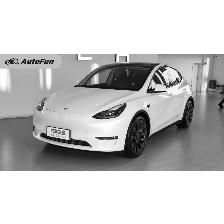EV: (35, 62, 196, 160)
